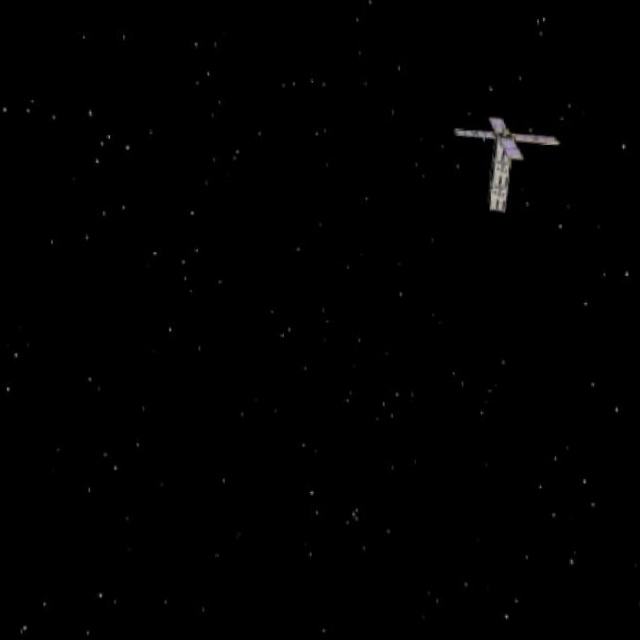satellite: (447, 96, 568, 221)
